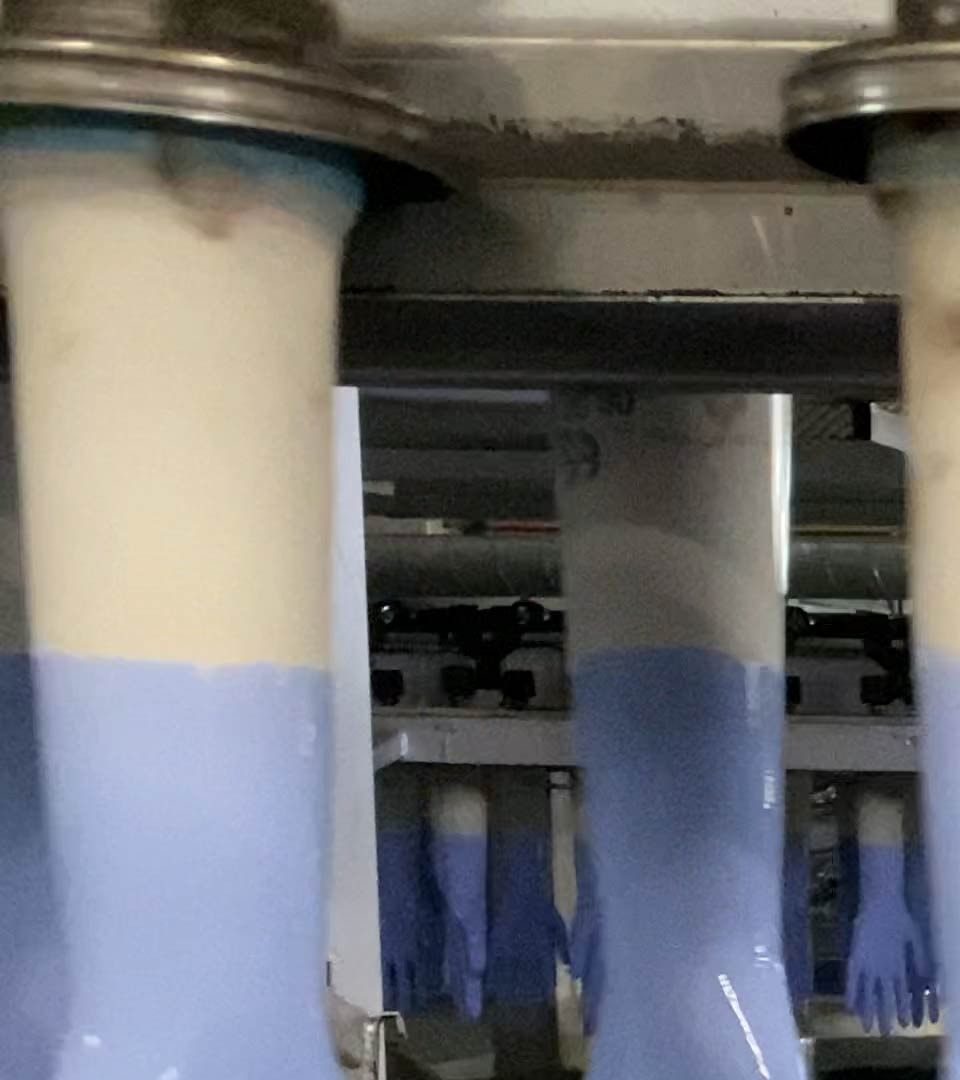glove: (831, 839, 929, 1037)
